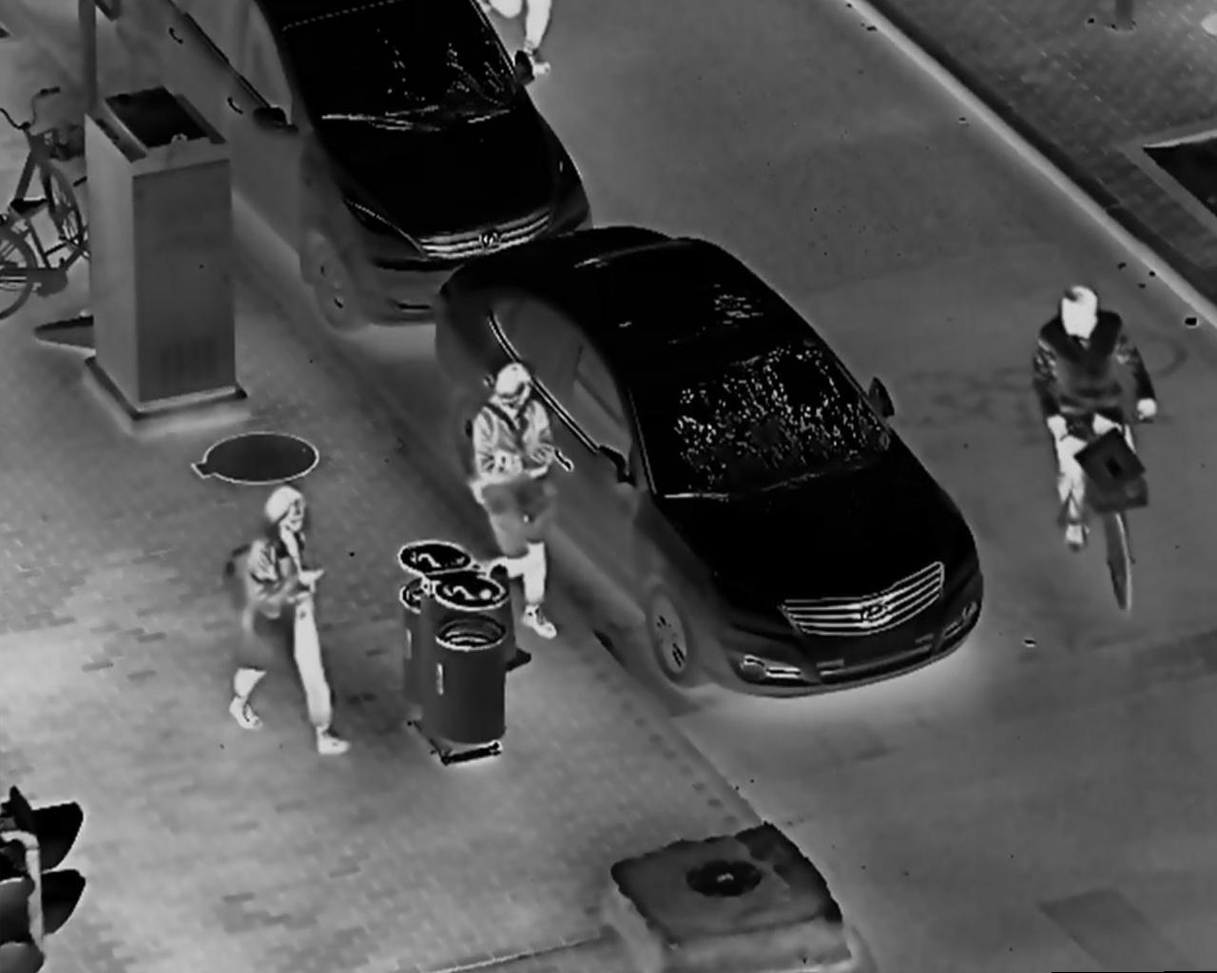person: (1027, 278, 1166, 559), (227, 486, 357, 760), (463, 356, 574, 644)
